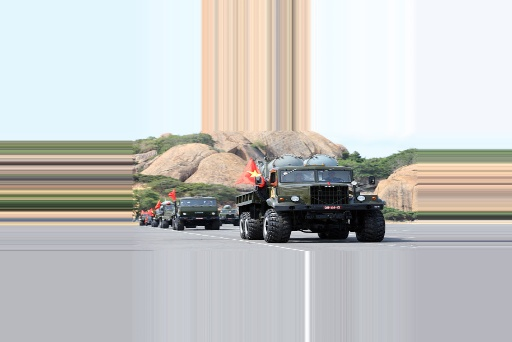plate: (323, 201, 341, 212)
